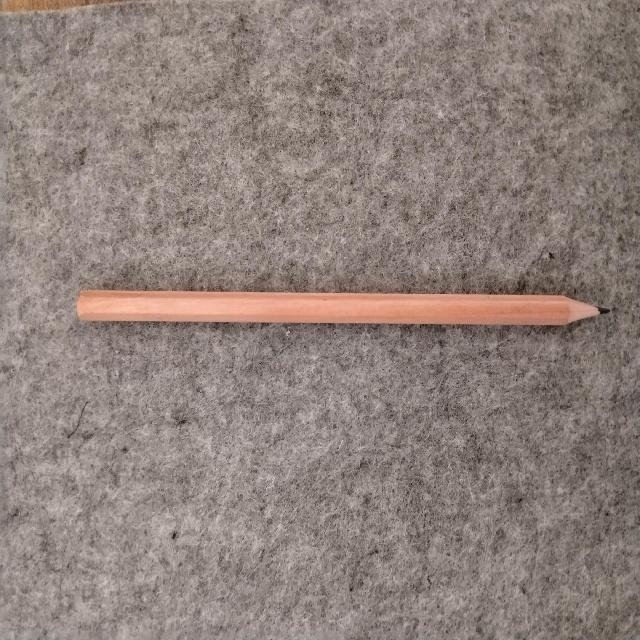pencil: (77, 290, 606, 324)
